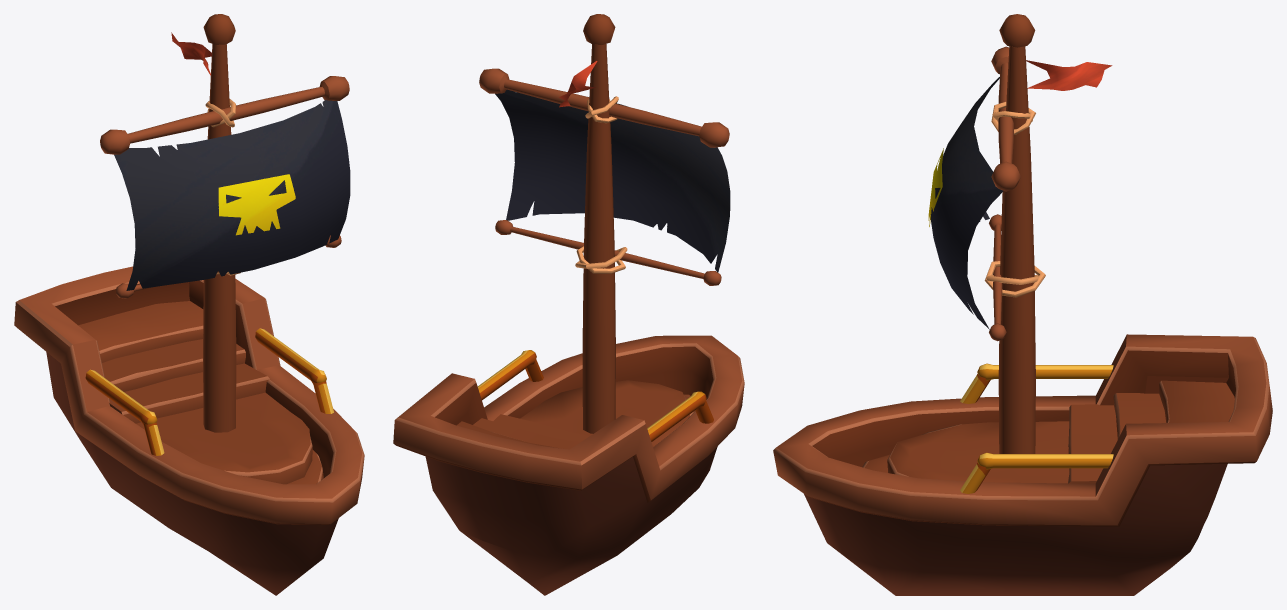
Rendered from Ship_Small.fbx.
The picture shows the model from 3 angles, left to right: view 1: azimuth 30°, elevation 25°; view 2: azimuth 150°, elevation 25°; view 3: azimuth 270°, elevation 25°; orthographic projection. The views are drawn at different scales.
Visible parts, largest first — view 1: Color_01, Color_Cloth_01; view 2: Color_01, Color_Cloth_01; view 3: Color_01, Color_Cloth_01.
Part boxes in pixels (x1,y1,x2,y2): Color_01: [14, 14, 364, 595]; Color_Cloth_01: [114, 32, 350, 290]; Color_01: [393, 14, 744, 595]; Color_Cloth_01: [495, 61, 730, 272]; Color_01: [773, 14, 1272, 595]; Color_Cloth_01: [928, 60, 1112, 329].
Size of the model in its own units: 16.33 by 33.95 by 26.43.
